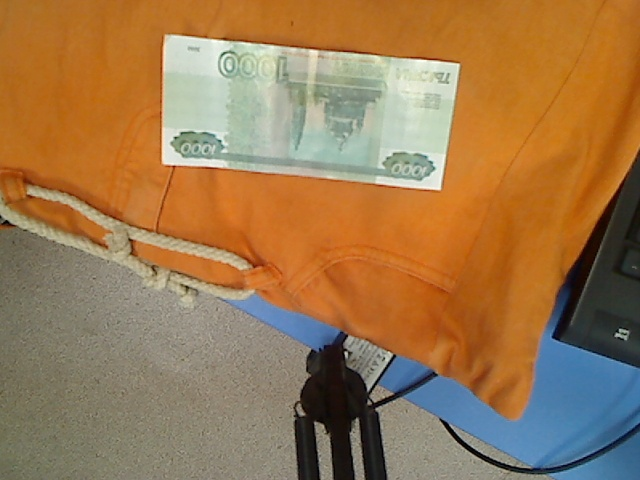banknotes: (160, 31, 461, 197)
